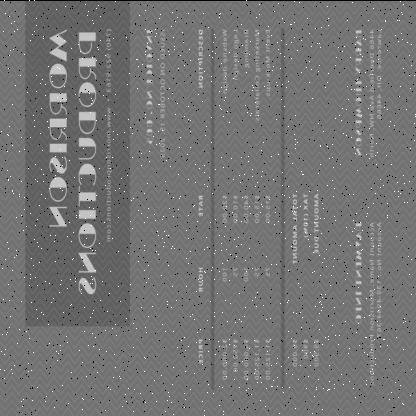Paragraph: (46, 26, 114, 295), (289, 187, 322, 369), (353, 219, 383, 386), (351, 26, 383, 159), (144, 26, 167, 159)
Table: (195, 24, 283, 390)
